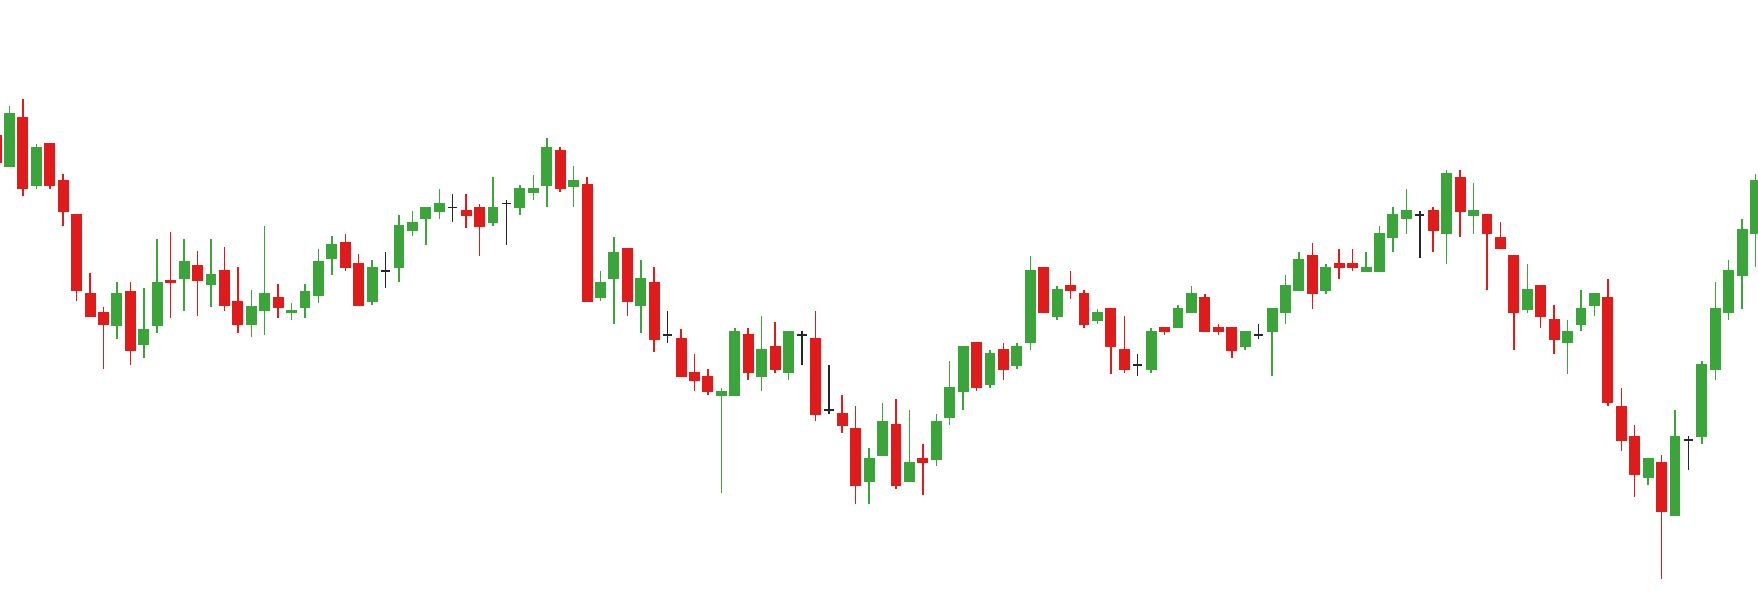buy: (718, 365, 875, 513)
